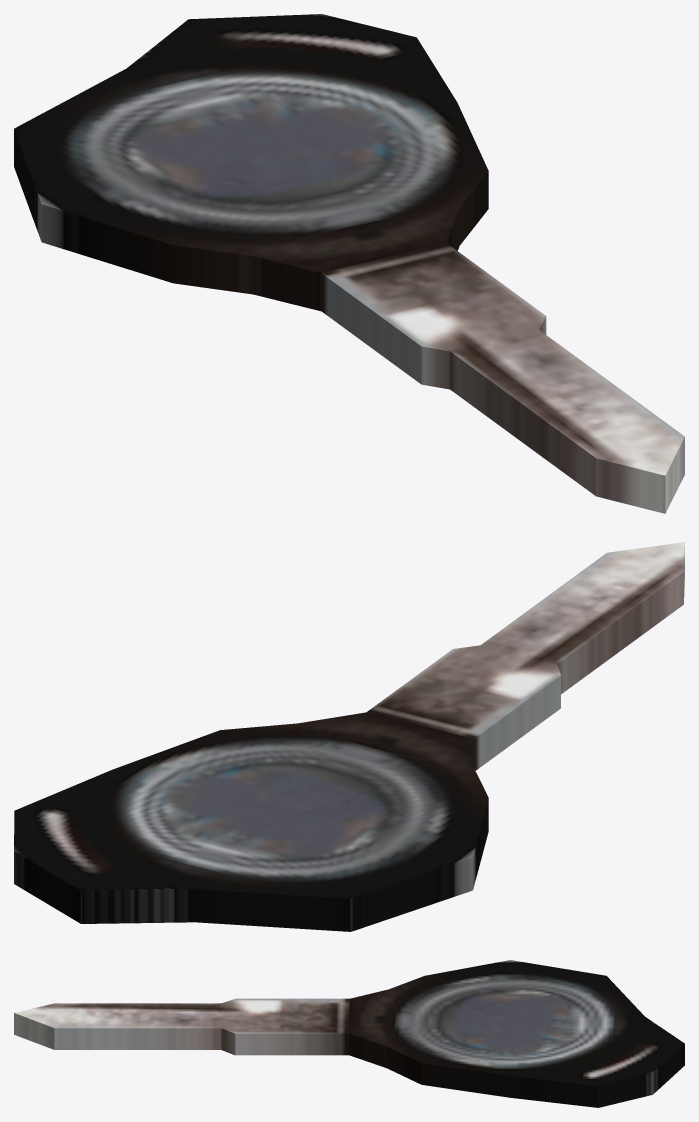
The model's file is key_racing.fbx.
3 renders of one model, top to bottom at view 1: azimuth 30°, elevation 25°; view 2: azimuth 150°, elevation 25°; view 3: azimuth 270°, elevation 25°, orthographic. The views are drawn at different scales.
Visible parts, largest first — view 1: key_racing; view 2: key_racing; view 3: key_racing.
Part boxes in pixels (x1=…): key_racing: x1=14, y1=14, x2=684, y2=513; key_racing: x1=14, y1=542, x2=684, y2=931; key_racing: x1=14, y1=960, x2=684, y2=1107.
Bounding box in the file's own units: 8.53 × 0.6882 × 19.18.
1 material, 1 textured.
